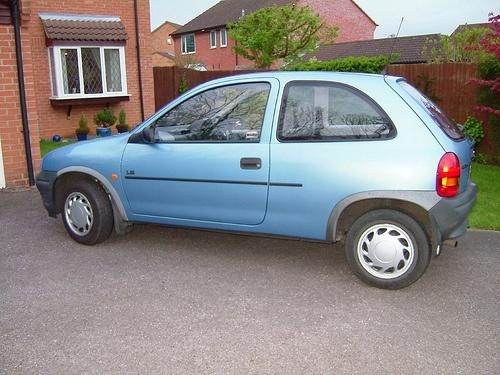car: (36, 70, 480, 291)
